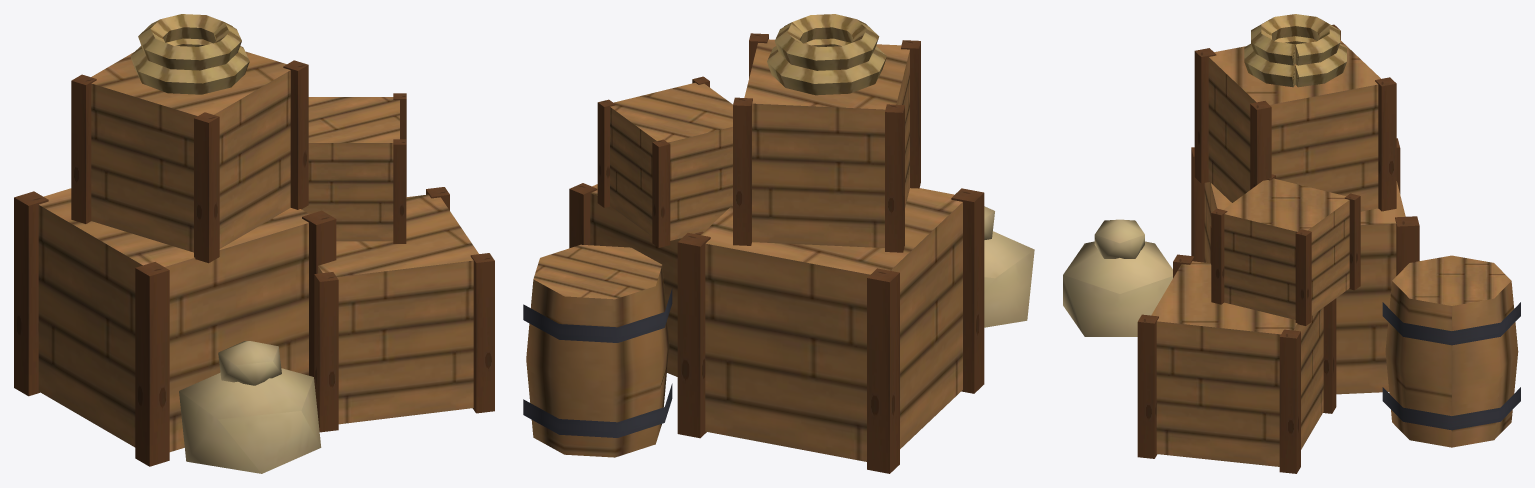
The model's file is crate_stack.glb.
The picture shows the model from 3 angles, left to right: view 1: azimuth 30°, elevation 25°; view 2: azimuth 150°, elevation 25°; view 3: azimuth 270°, elevation 25°; orthographic projection. The views are drawn at different scales.
Parts seen in each view (by area): view 1: crate_stack; view 2: crate_stack; view 3: crate_stack.
Boxes of the visible parts, x1,y1,x2,y2 form: crate_stack: (14,14,494,473); crate_stack: (523,14,1034,473); crate_stack: (1063,14,1520,473).
Bounding box in the file's own units: 1.99 × 1.88 × 2.34.
3 materials, 3 textured.
